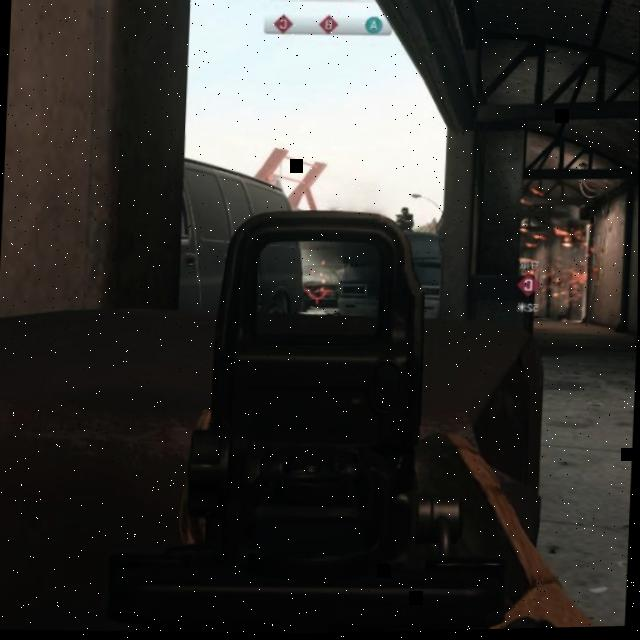MW2_body: (395, 207, 414, 234)
